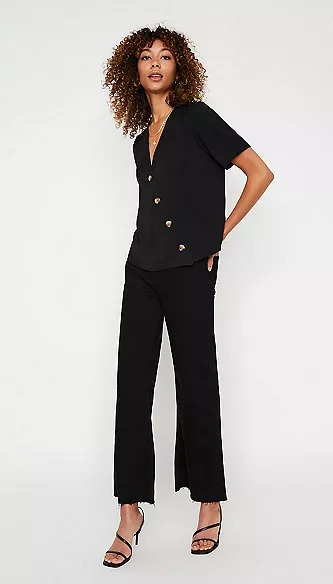C_W_pants: (117, 277, 228, 510)
S_short blouse: (132, 107, 255, 271)
